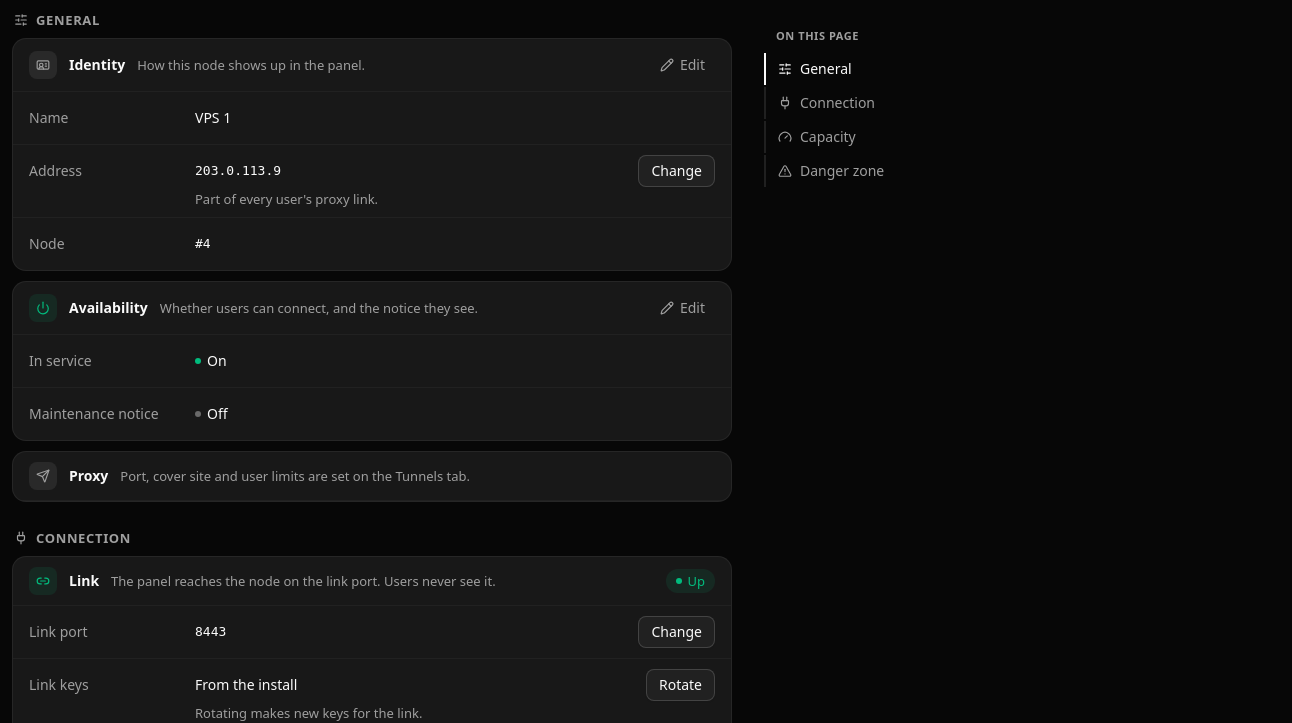
Test: MtprotoNodeSettings › won't save an empty name
The width and height of the screenshot is (1292, 723).
Click the button with aria-label "Edit Identity" at (682, 65), box x1=650 y1=49 x2=715 y2=81
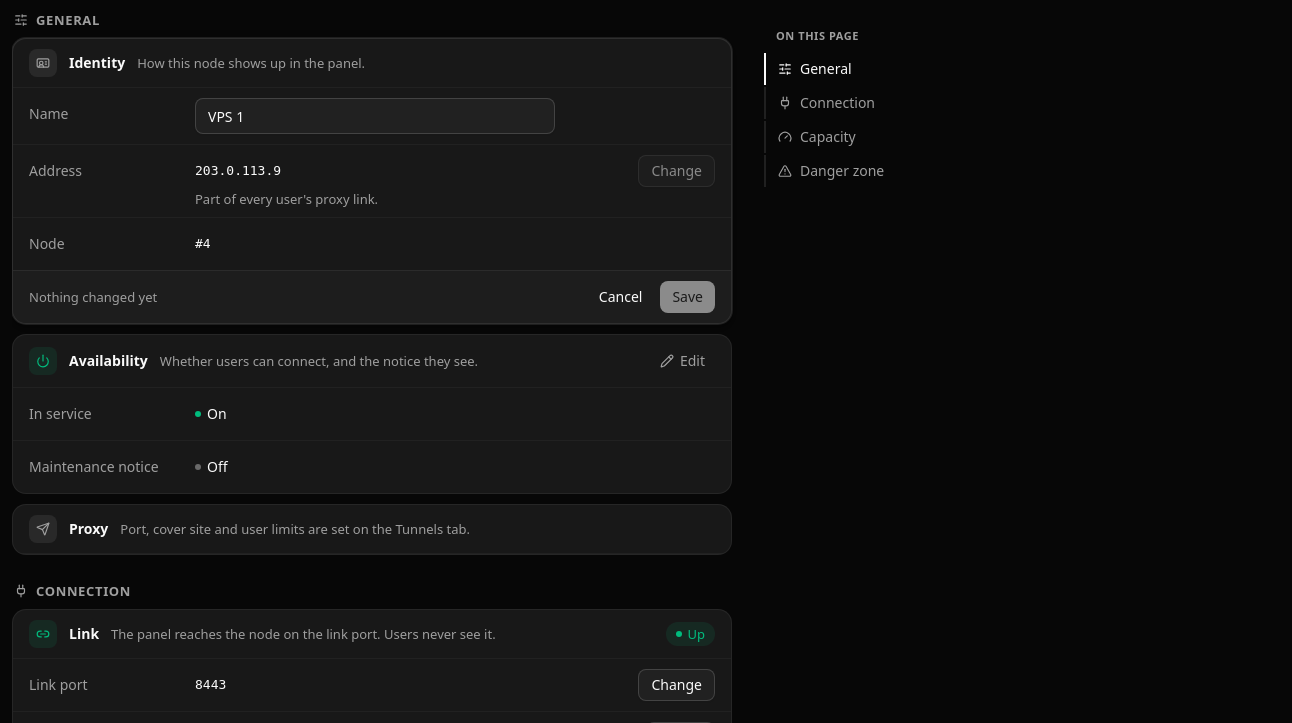
Clear the field labelled "Name" at (375, 116), box x1=195 y1=98 x2=555 y2=134
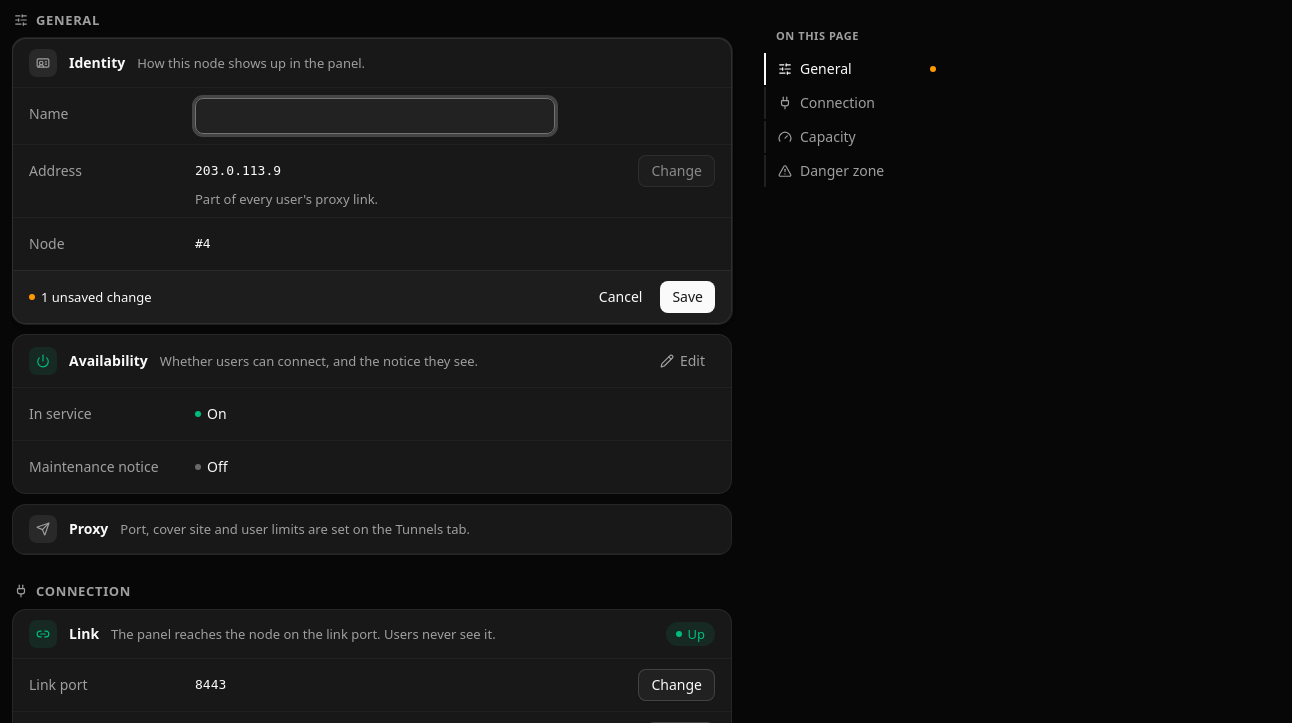
Click the button "Save" at (688, 297), box x1=660 y1=281 x2=715 y2=313
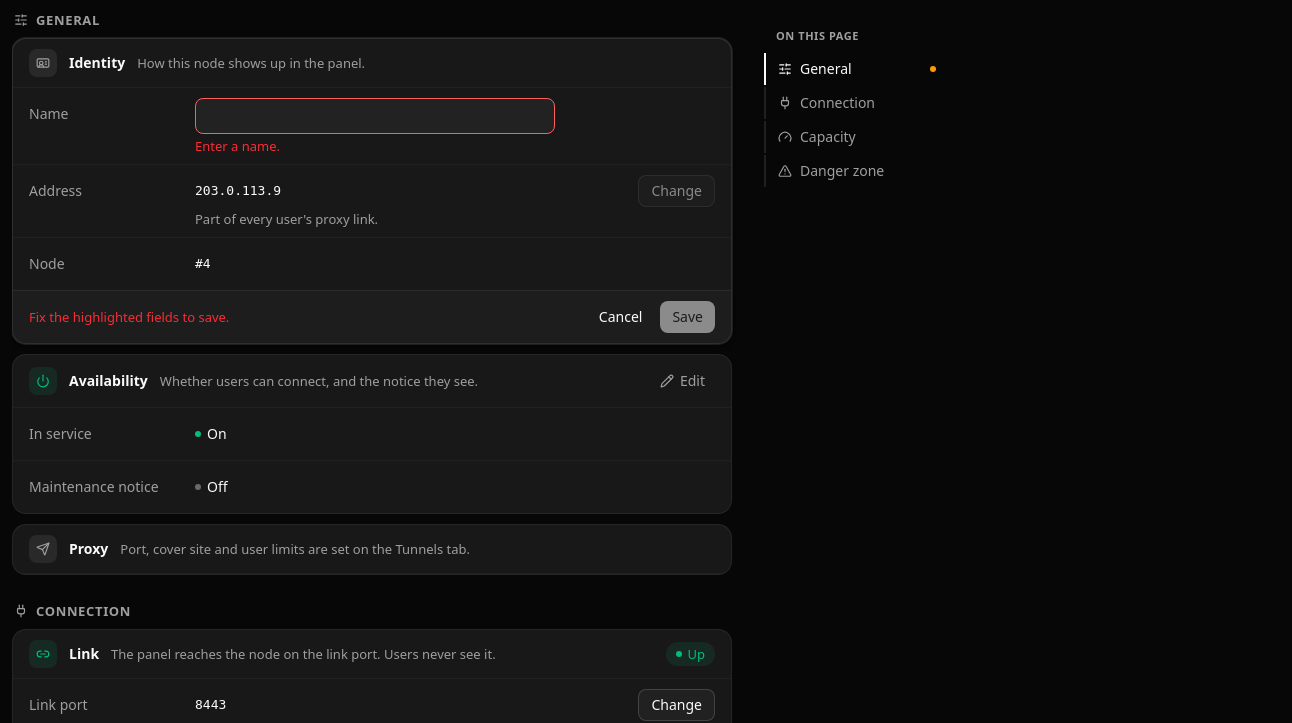
expect the text "Enter a name." is shown: met, box x1=195 y1=137 x2=280 y2=155
expect the footer named "Unsaved changes" shows "Fix the highlighted fields to save.": met, box x1=29 y1=308 x2=229 y2=326
